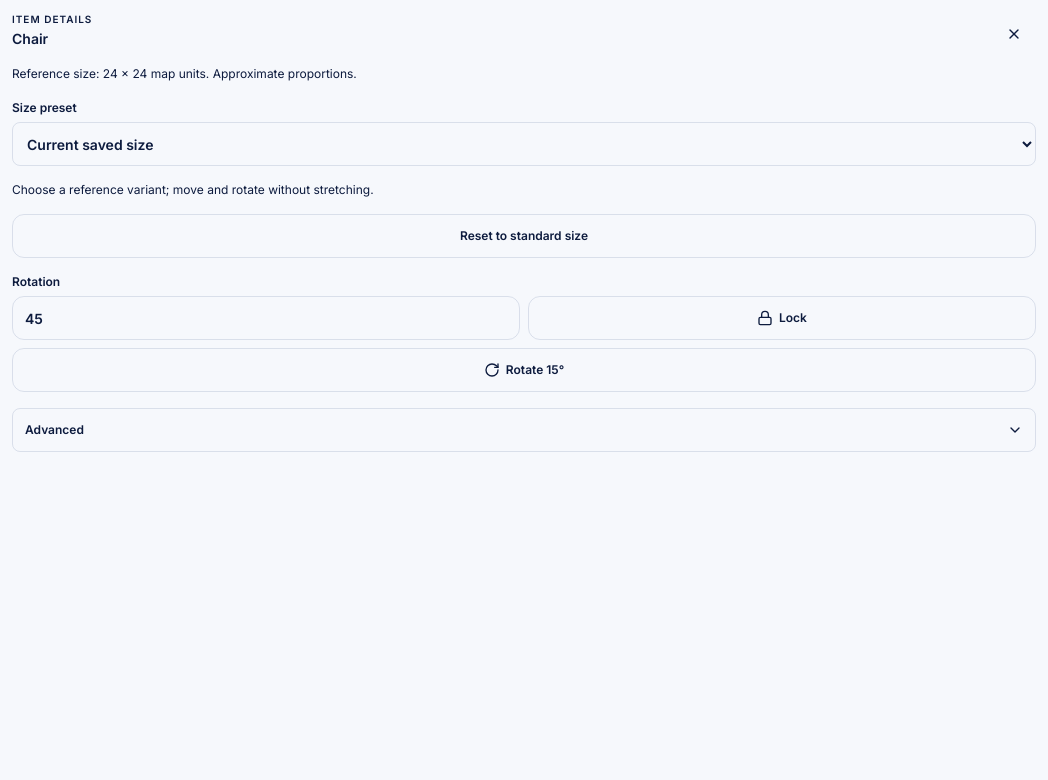
Test: keeps the primary furniture details compact and reveals geometry and layer controls in Advanced
Check: the text "Chair" is shown, box [12,30,48,47]
Check: the text "Reference size: 24 × 24 map units. Approximate proportions." is shown, box [12,66,357,81]
Click the button "Advanced".
click(54, 430)  # box [12,408,1036,452]
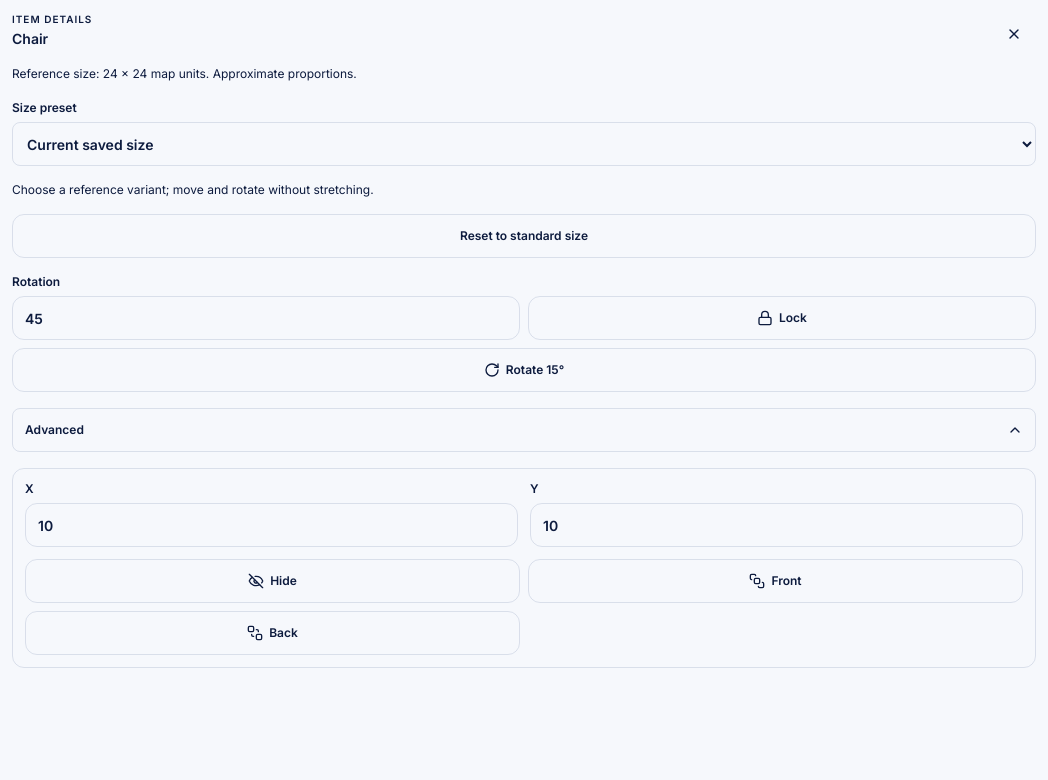
Check: the number field labelled "X" is shown, box [25,503,518,547]
Check: the button with aria-label "Hide selected item" is shown, box [25,559,520,603]
Check: the button with aria-label "Bring selected item to front" is shown, box [528,559,1023,603]
